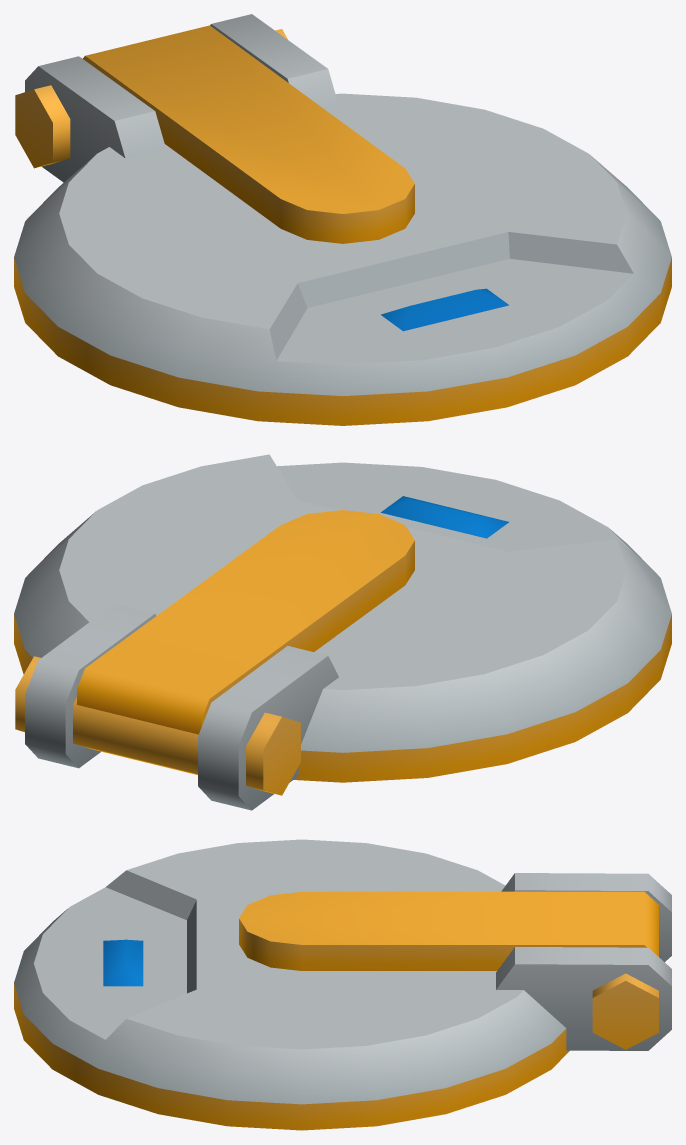
The model's file is Hatch_003_door_001.fbx.
3 renders of one model, top to bottom at view 1: azimuth 30°, elevation 25°; view 2: azimuth 150°, elevation 25°; view 3: azimuth 270°, elevation 25°, orthographic. The views are drawn at different scales.
Parts seen in each view (by area): view 1: Hatch_003_door_001; view 2: Hatch_003_door_001; view 3: Hatch_003_door_001.
Part boxes in pixels (box(x1,y1,x2,y2)): Hatch_003_door_001: box(14, 14, 671, 425); Hatch_003_door_001: box(14, 454, 671, 810); Hatch_003_door_001: box(14, 839, 671, 1130).
Size of the model in its own units: 80 by 91.37 by 15.31.
